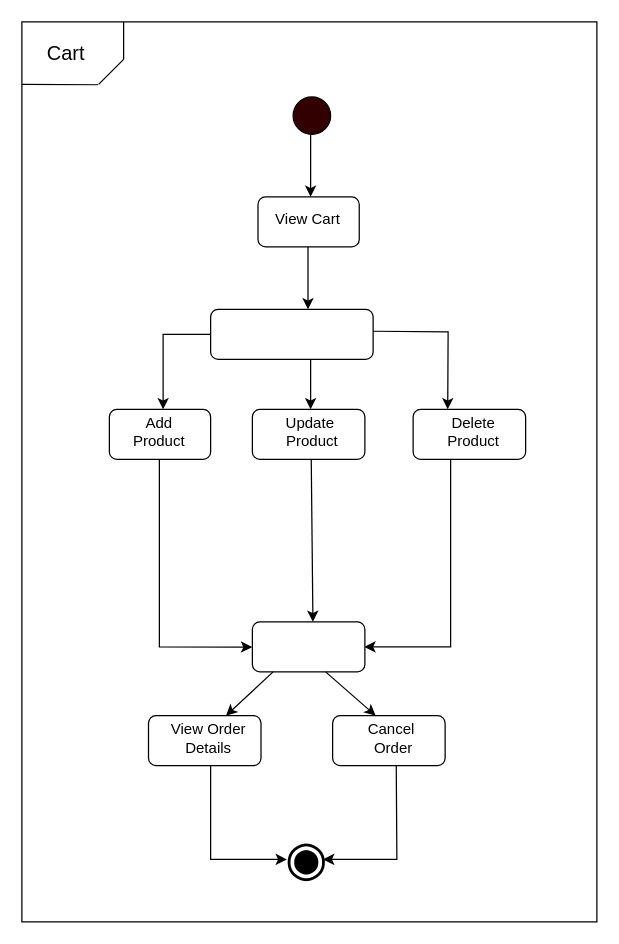
The diagram is 619 pixels wide and 944 high, and some of its shapes have lost their labels. Here are the shapes that lost their labels. From the top down, the box of each, then its label:
(209, 308, 373, 359): Cart is Empty or With Products
(251, 621, 365, 672): Place Order
